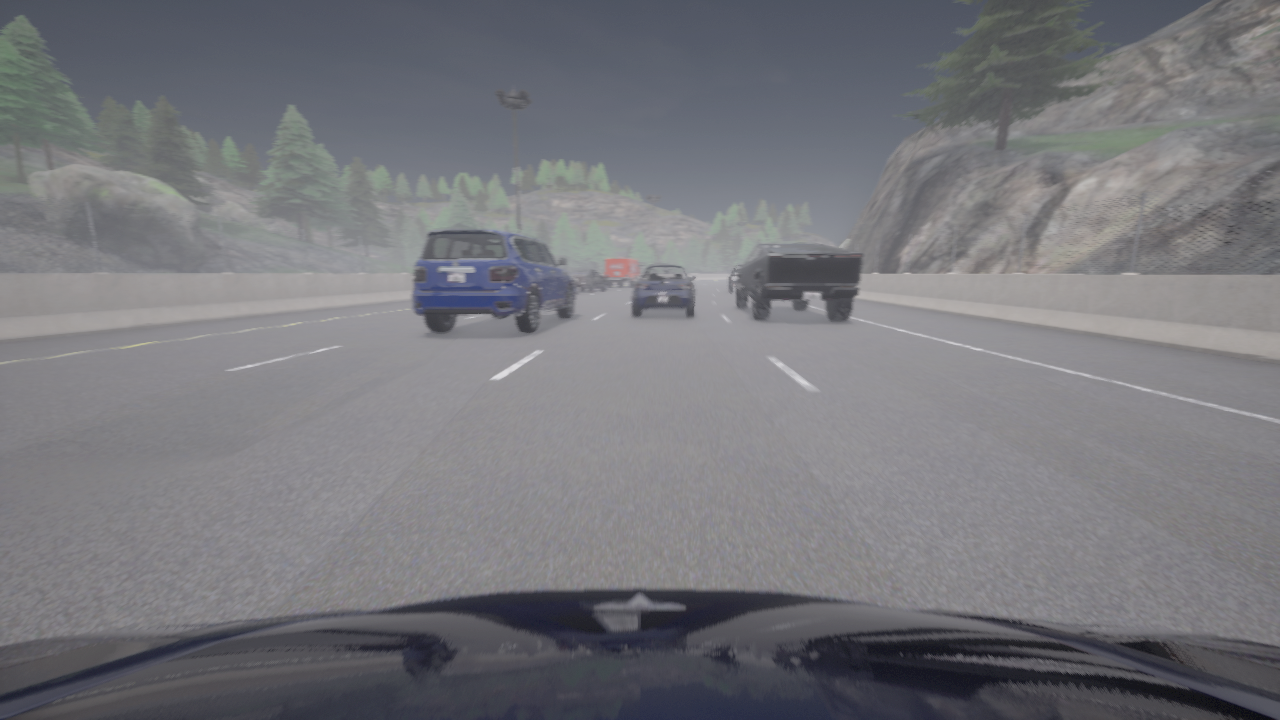cyclist: (0, 588, 1279, 719), (412, 228, 574, 332), (735, 243, 862, 320), (632, 264, 695, 317), (729, 263, 742, 291), (572, 277, 578, 293), (582, 279, 606, 281)
